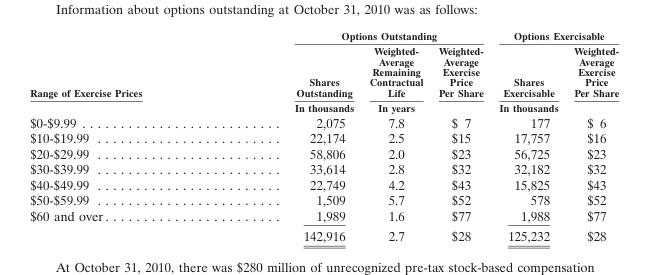table: (29, 28, 618, 243)
table column: (29, 28, 217, 243), (217, 28, 361, 243), (490, 28, 565, 243), (361, 28, 430, 243), (430, 28, 490, 243), (565, 28, 618, 243)
table column header: (29, 28, 618, 113)
table row: (29, 42, 618, 113), (29, 207, 618, 225), (29, 225, 618, 243), (29, 113, 618, 129), (29, 129, 618, 145), (29, 160, 618, 176), (29, 191, 618, 207), (29, 145, 618, 160), (29, 176, 618, 191), (29, 28, 618, 42)
table spanning cell: (29, 28, 217, 113), (217, 28, 490, 42), (490, 28, 618, 42)
